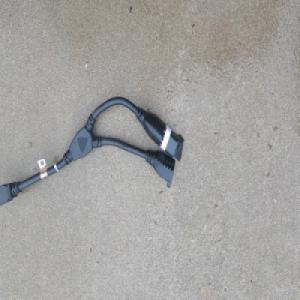Wire: (0, 94, 184, 205)
